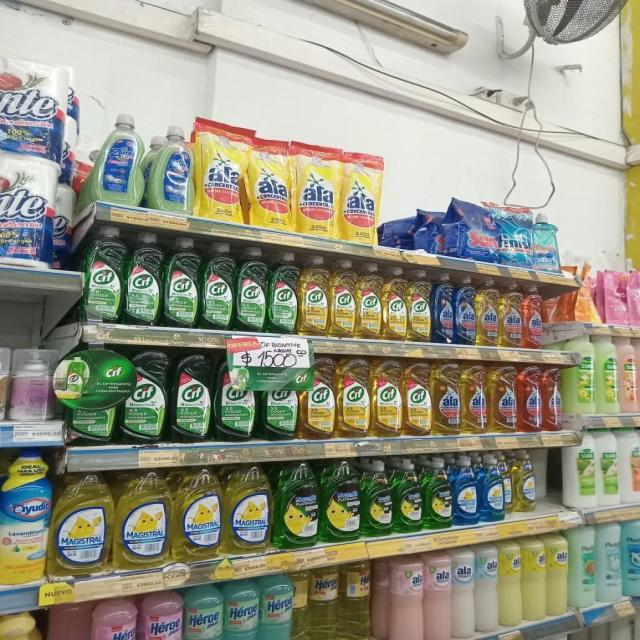ala_conc_amarillo: (432, 361, 461, 436), (488, 363, 517, 434), (462, 362, 488, 434), (476, 278, 499, 347), (499, 280, 522, 348)
ala_conc_azul: (432, 272, 454, 344), (454, 275, 476, 346)
ala_conc_rojo: (517, 363, 542, 432), (523, 283, 545, 350), (542, 365, 562, 432)
ala_crem_amarillo: (498, 540, 522, 628), (522, 536, 546, 622), (546, 531, 568, 617)
ala_crem_blanco: (452, 546, 475, 640), (475, 543, 498, 634)
ala_crem_rosado: (386, 554, 424, 640), (424, 550, 451, 640)
ala_sachet_amarillo: (196, 120, 246, 222), (248, 135, 294, 231), (296, 143, 339, 238), (341, 151, 378, 244)
cif_conc_bot_amarilla: (301, 357, 335, 440), (337, 357, 369, 438), (372, 358, 402, 438), (299, 255, 328, 336), (403, 360, 431, 437), (330, 259, 356, 338), (357, 262, 382, 340), (383, 266, 407, 341), (408, 269, 431, 343)
cif_conc_botella_verde: (121, 349, 168, 444), (214, 354, 258, 442), (170, 351, 212, 443), (84, 226, 123, 324), (125, 231, 162, 326), (163, 236, 200, 328), (201, 242, 234, 331), (235, 246, 267, 332), (268, 252, 298, 334), (261, 378, 298, 441)
heroe: (338, 559, 374, 640), (302, 563, 337, 640), (259, 572, 294, 640), (183, 583, 223, 640), (139, 590, 182, 640), (224, 578, 258, 640), (91, 596, 137, 640)
magistral_con_amarillo: (52, 471, 112, 576), (115, 468, 170, 568), (172, 466, 222, 562), (224, 462, 271, 554), (512, 449, 537, 515)
magistral_con_azul: (452, 455, 478, 526), (480, 453, 504, 522)
zorro: (623, 519, 640, 598)
